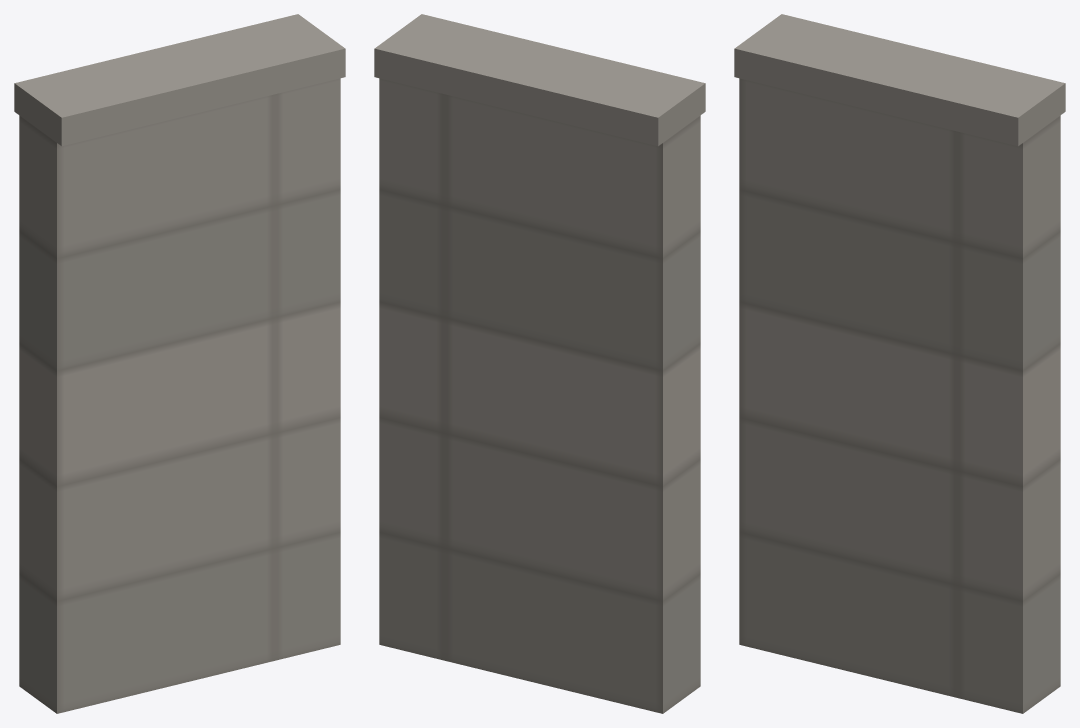
The model's file is SM_Lot_GapFence_Block_520_01.fbx.
3 renders of one model, left to right at view 1: azimuth 30°, elevation 25°; view 2: azimuth 150°, elevation 25°; view 3: azimuth 330°, elevation 25°, orthographic.
Parts seen in each view (by area): view 1: SM_Lot_GapFence_Block_520_01; view 2: SM_Lot_GapFence_Block_520_01; view 3: SM_Lot_GapFence_Block_520_01.
Boxes of the visible parts, x1,y1,x2,y2 form: SM_Lot_GapFence_Block_520_01: (14, 14, 345, 713); SM_Lot_GapFence_Block_520_01: (374, 14, 705, 713); SM_Lot_GapFence_Block_520_01: (734, 14, 1065, 713).
Size of the model in its own units: 0.52 by 1.05 by 0.15.
Materials: 1 (1 with a texture image).
